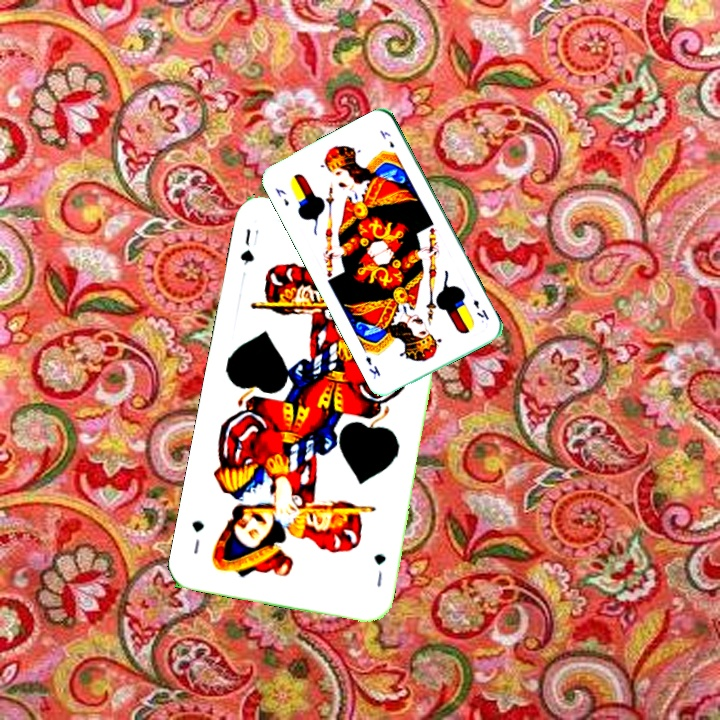EK: (469, 295, 491, 322), (271, 184, 292, 209)
GU: (236, 225, 261, 267), (369, 549, 389, 589)
